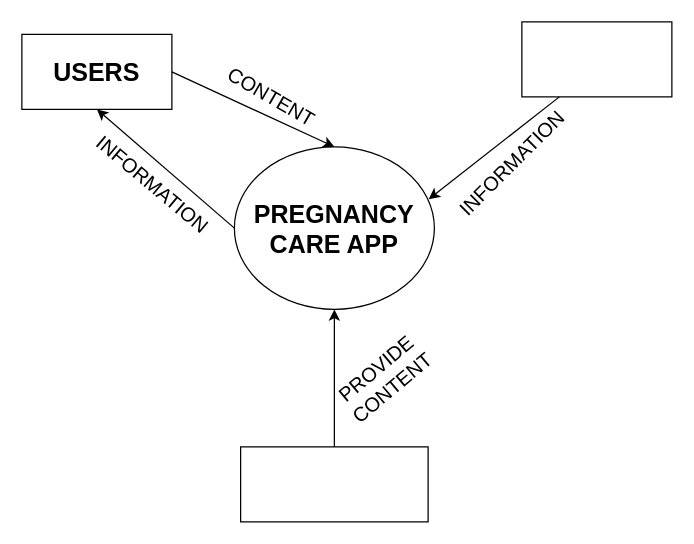
Some shapes in this 694 by 544 pixel diagram are drawn without their labels. The box of each missing label's shape, as (x1, y1, x2, y2) in pixels:
ADMIN: (521, 21, 672, 97)
PLAY STORE: (239, 446, 428, 522)
